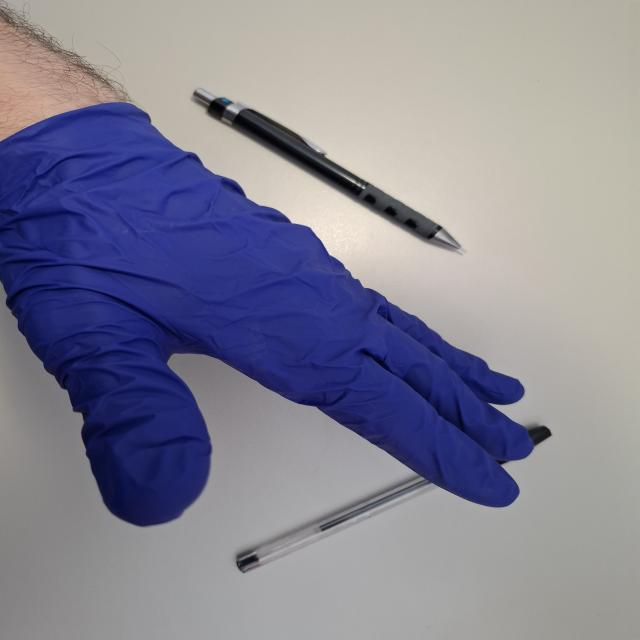glove_on: (0, 101, 536, 530)
